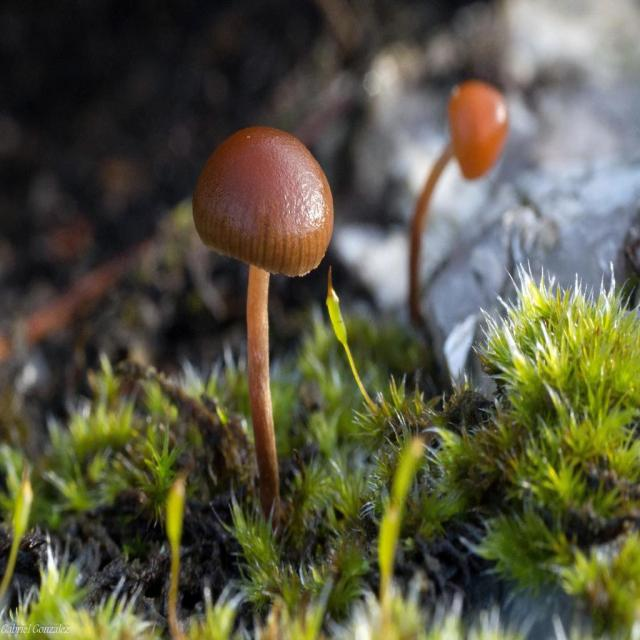Mushroom: (190, 124, 335, 531), (406, 80, 509, 346)
